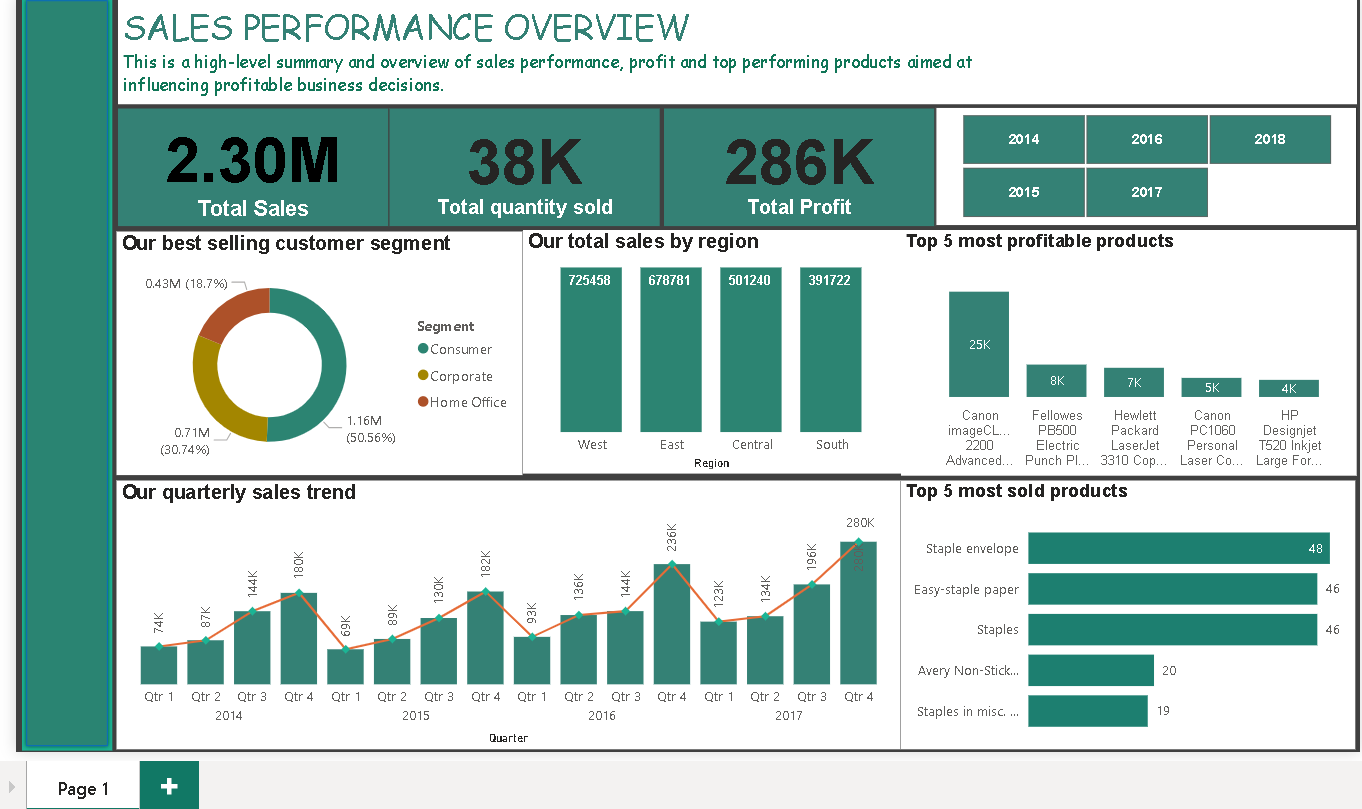

Layout of this report page (visuals, bound fields, positions):
{"tool":"powerbi","page":{"name":"Page 1","canvas":[1280,720],"ordinal":0},"visuals":[{"type":"hundredPercentStackedColumnChart","title":"Our total sales by region","fields":{"Category":["Sample - Superstore.Region"],"Y":["Sum(Sample - Superstore.Sales)"]},"box":[483.2,222.6,360,232.1],"z":0},{"type":"donutChart","title":"Our best selling customer segment","fields":{"Category":["Sample - Superstore.Segment"],"Y":["Sum(Sample - Superstore.Sales)"]},"box":[96.3,224.2,386.8,232.1],"z":1000},{"type":"columnChart","title":"Top 5 most profitable products","fields":{"Category":["Sample - Superstore.Product Name"],"Y":["Sum(Sample - Superstore.Profit)"]},"box":[843.2,222.6,434.2,233.7],"z":2000},{"type":"shape","box":[6.1,0,85.8,718.5],"z":3000},{"type":"lineClusteredColumnComboChart","title":"Our quarterly sales trend","fields":{"Category":["Sample - Superstore.Order Date.Variation.Date Hierarchy.Year","Sample - Superstore.Order Date.Variation.Date Hierarchy.Quarter"],"Y":["Sum(Sample - Superstore.Sales)"],"Y2":["Sum(Sample - Superstore.Sales)"]},"box":[96.3,461.1,746.9,255.8],"z":4000},{"type":"shape","box":[96.7,1.7,1180,101.7],"z":5000},{"type":"card","title":"Total Sales","fields":{"Values":["Sum(Sample - Superstore.Sales)"]},"box":[97.1,106.8,257.4,111.7],"z":6000},{"type":"card","fields":{"Values":["Sum(Sample - Superstore.Profit)"]},"box":[616.8,106.8,257.4,111.7],"z":7000},{"type":"card","fields":{"Values":["Sum(Sample - Superstore.Quantity)"]},"box":[356.2,106.8,257.4,111.7],"z":8000},{"type":"slicer","fields":{"Values":["Sample - Superstore.Ship Date.Variation.Date Hierarchy.Year"]},"box":[875.8,105.2,401.5,113.3],"z":9000},{"type":"textbox","box":[96.7,1.7,818.3,113.3],"z":10000},{"type":"barChart","title":"Top 5 most sold products","fields":{"Category":["Sample - Superstore.Product Name"],"Y":["CountNonNull(Sample - Superstore.Sales)"]},"box":[843.2,461.1,432.6,255.8],"z":11000}]}

Visuals, with their boxes in screenshot pixels (x1, y1, x2, y2):
"Our total sales by region" hundredPercentStackedColumnChart: box=[518, 226, 895, 470]
"Our best selling customer segment" donutChart: box=[112, 228, 518, 472]
"Top 5 most profitable products" columnChart: box=[895, 226, 1351, 472]
shape: box=[17, 0, 107, 747]
"Our quarterly sales trend" lineClusteredColumnComboChart: box=[112, 477, 895, 745]
shape: box=[112, 0, 1350, 101]
"Total Sales" card: box=[113, 105, 383, 222]
card - Sum(Sample - Superstore.Profit): box=[658, 105, 928, 222]
card - Sum(Sample - Superstore.Quantity): box=[384, 105, 655, 222]
slicer - Sample - Superstore.Ship Date.Variation.Date Hierarchy.Year: box=[930, 103, 1351, 222]
textbox: box=[112, 0, 971, 114]
"Top 5 most sold products" barChart: box=[895, 477, 1349, 745]
